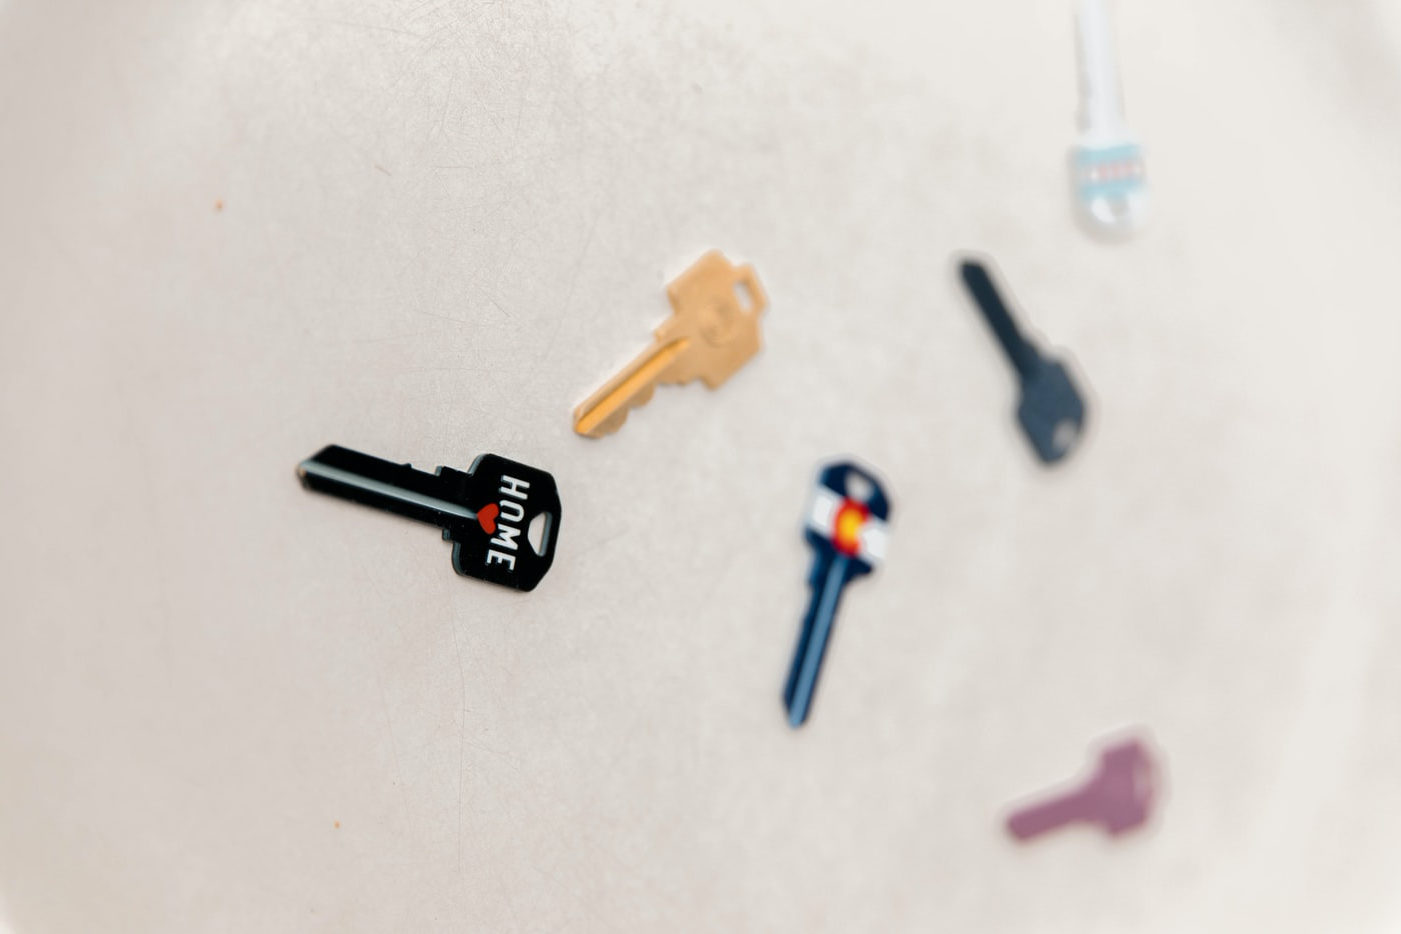key: (292, 444, 565, 596), (566, 247, 770, 444), (762, 454, 900, 729), (954, 252, 1097, 467), (1059, 13, 1146, 243), (1006, 735, 1161, 844)
